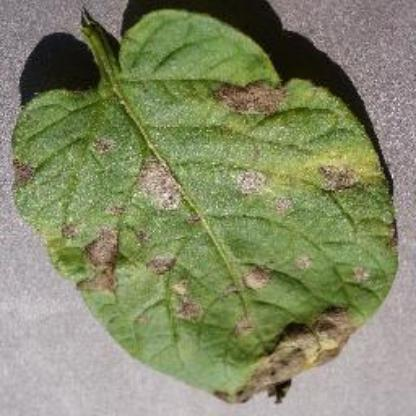Early-Blight: (9, 6, 394, 406)
